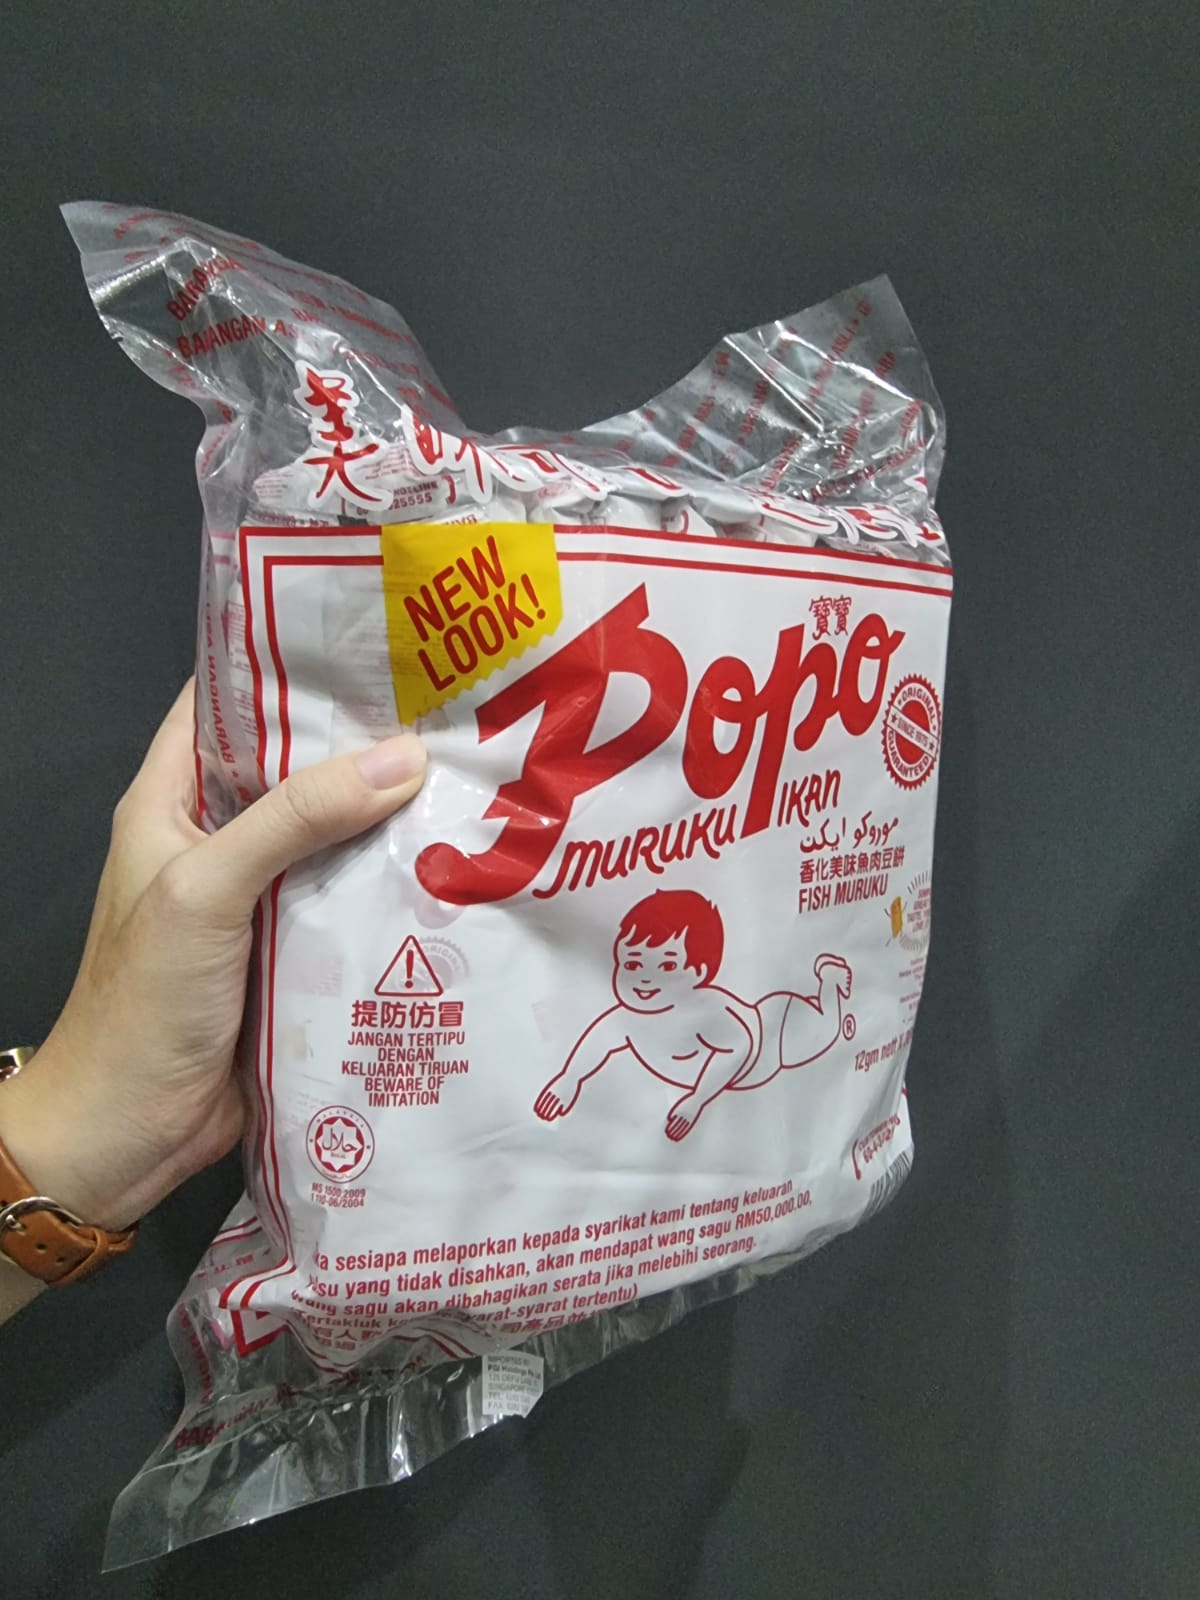Halal: (303, 1107, 373, 1178)
